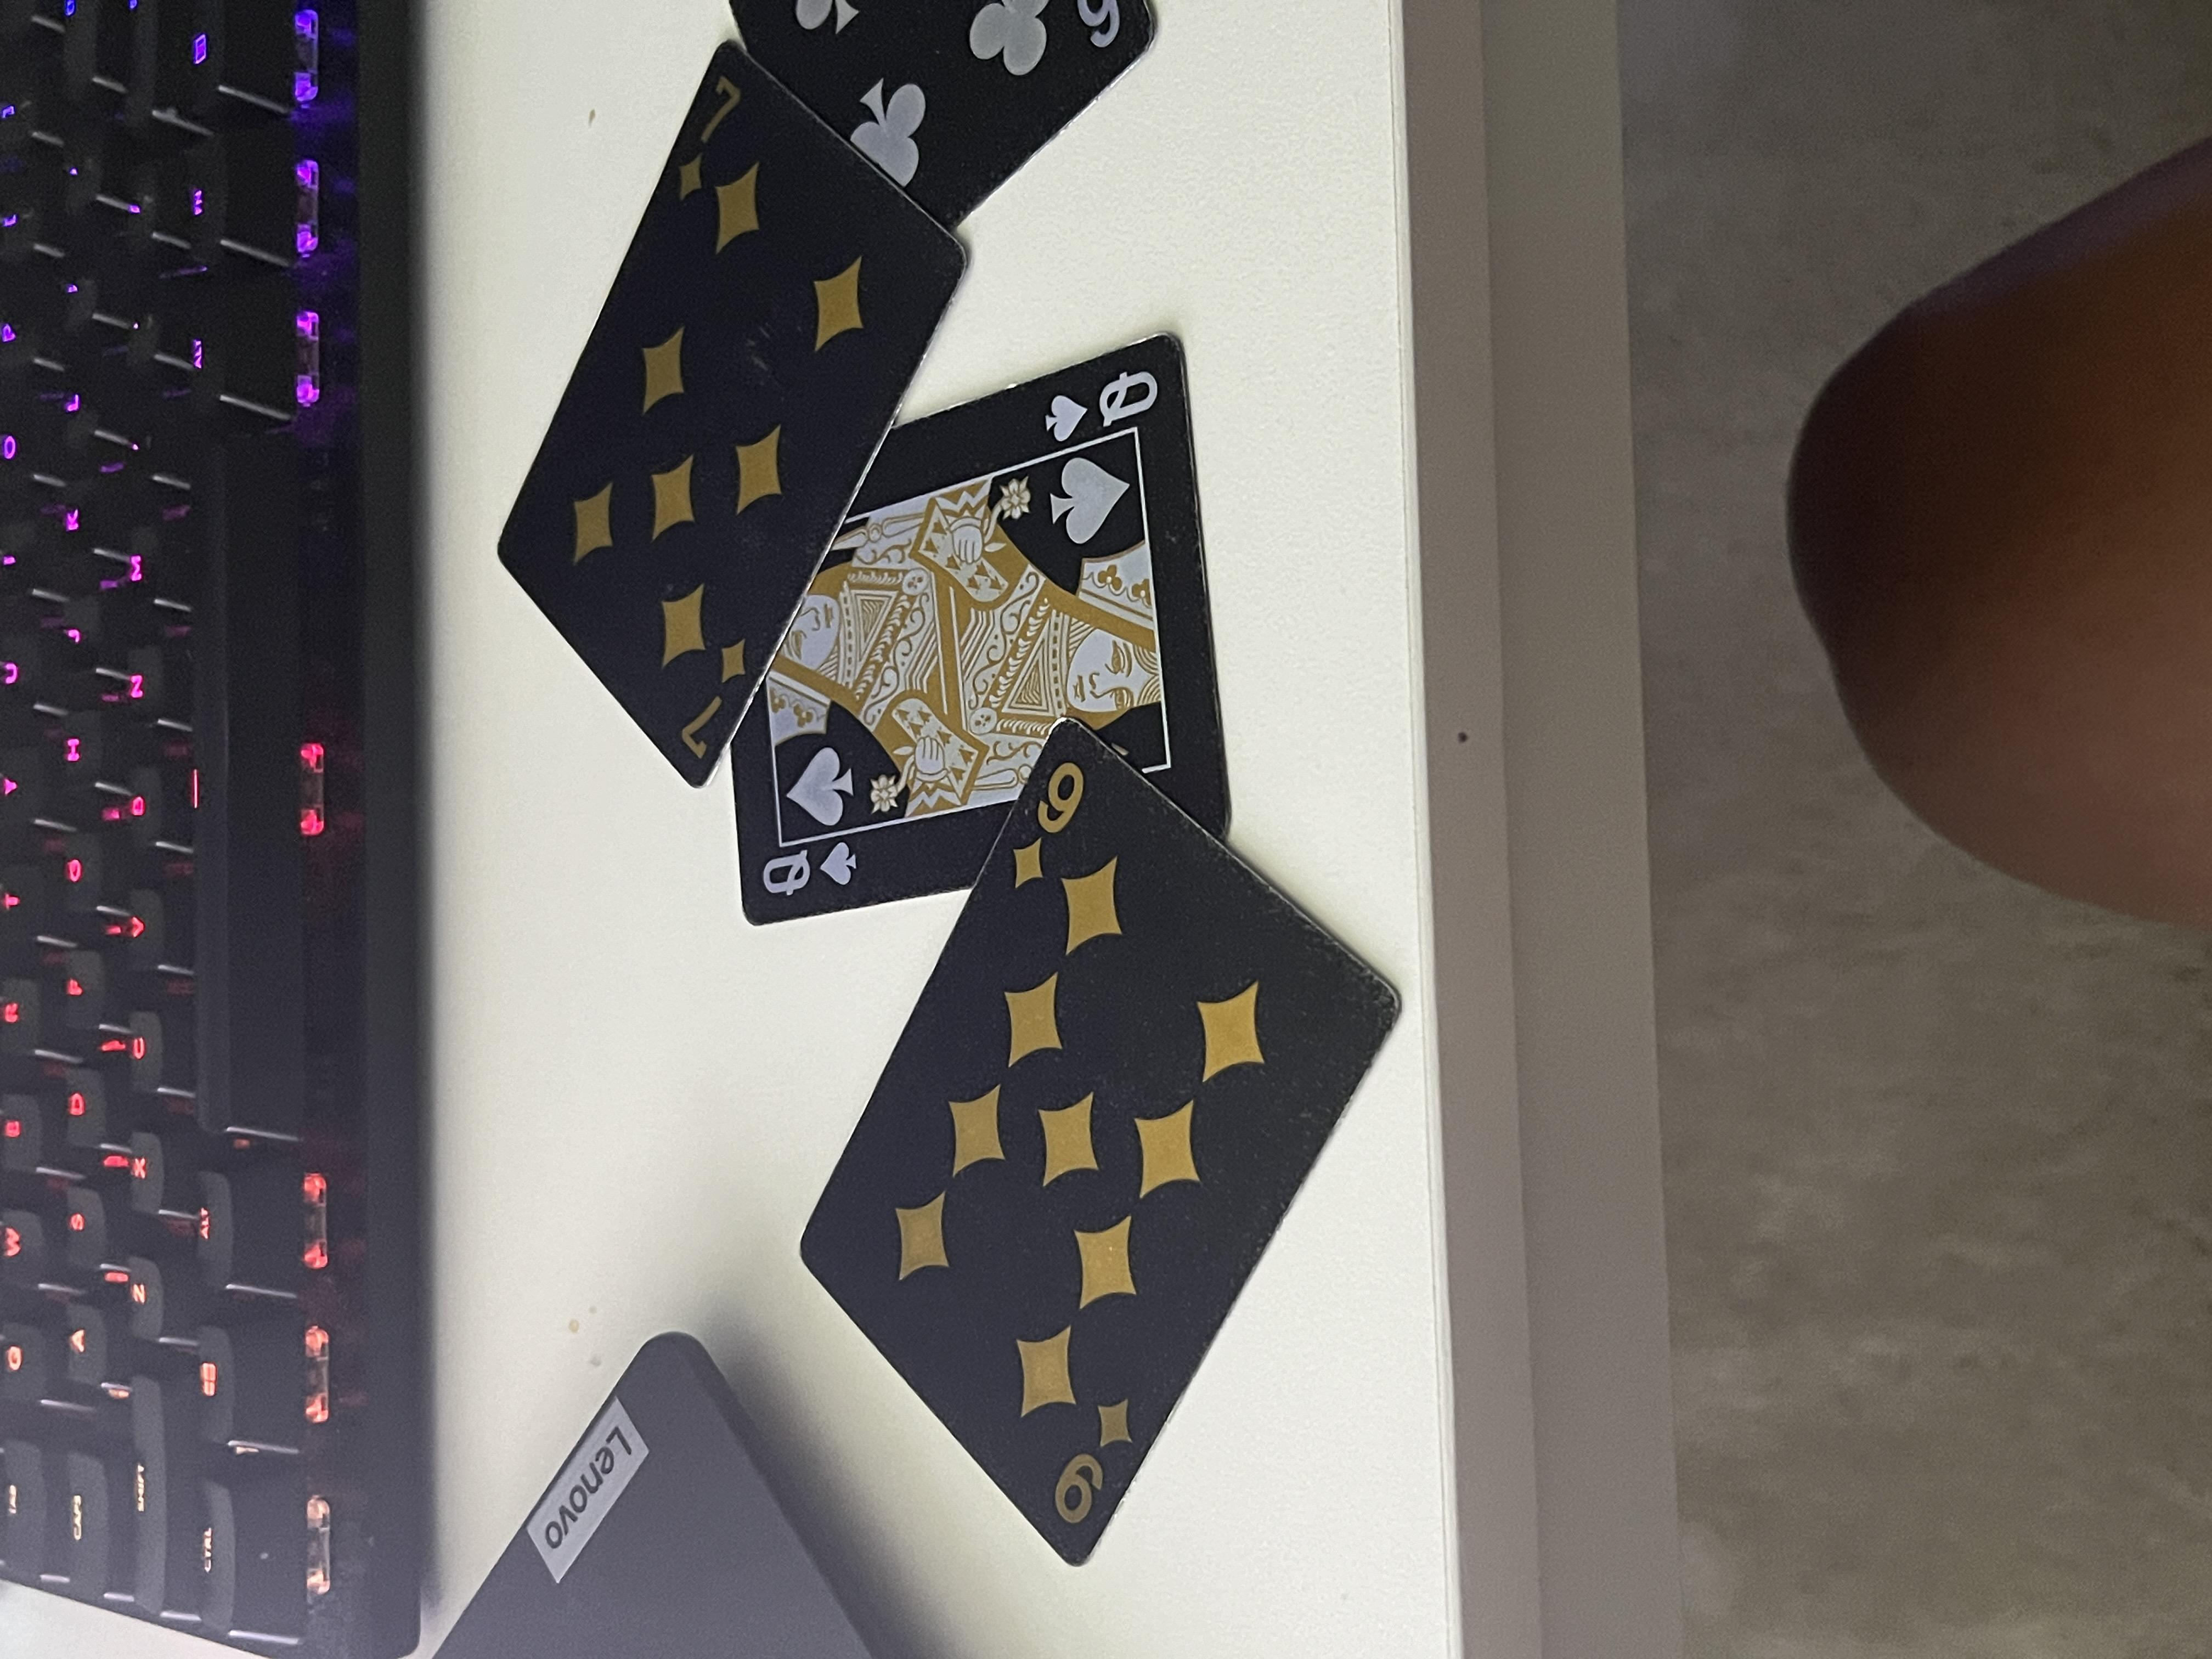7D: (1947, 495, 2127, 558), (1198, 509, 1371, 566)
9D: (165, 789, 385, 857), (1012, 755, 1204, 824)
QS: (1606, 775, 1742, 878), (1014, 573, 1096, 652)
